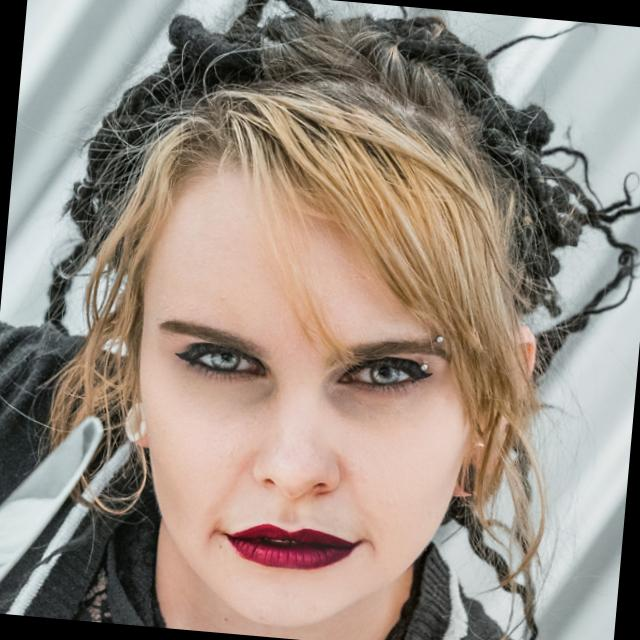face: (53, 0, 592, 637)
